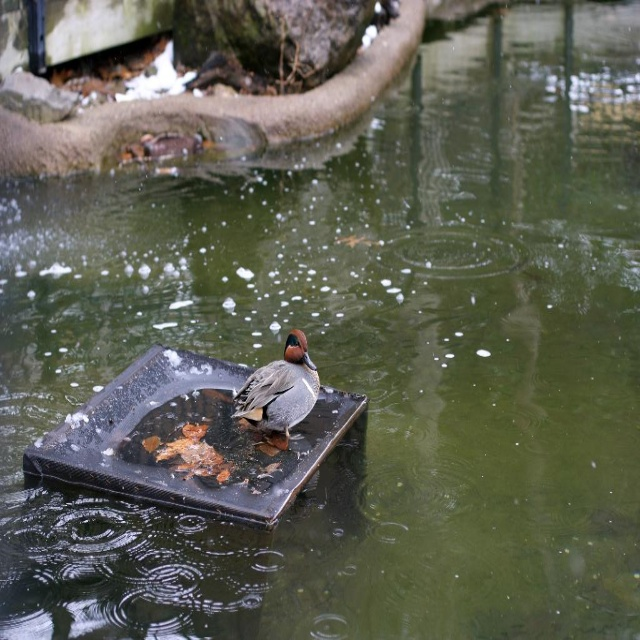Duck: (226, 329, 322, 433)
